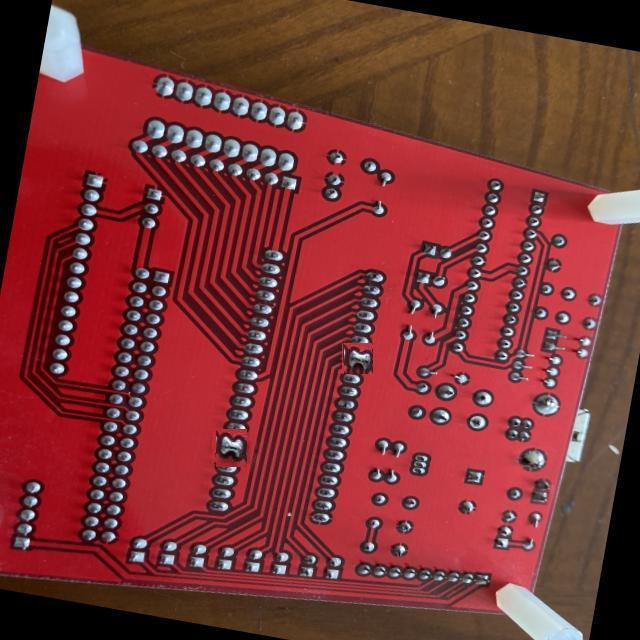damged: (214, 430, 248, 466), (342, 343, 373, 374)
